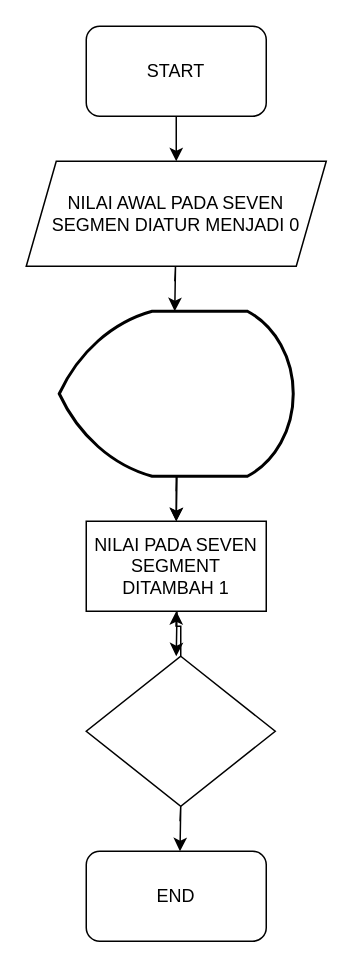
Some shapes in this 353 by 968 pixel diagram are drawn without their labels. Each missing label, with the centre of its shape:
"ANGKA PADA SEVEN SEGMENT DITAMPILKAN SESUAI DENGAN NILAI YANG ADA" goes at [175,393].
"APAKAH NILAI > 9?" goes at [180,730].
